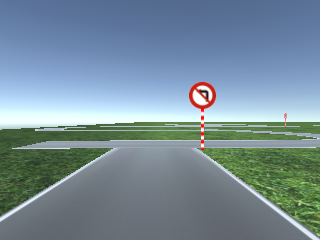-5: (1, 188, 320, 239)
NoLeft: (188, 81, 217, 109)
